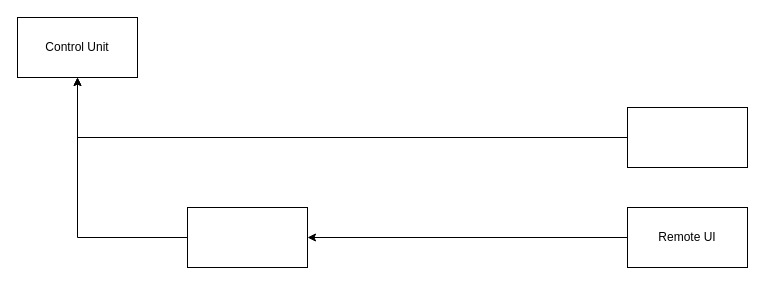
Some shapes in this 765 by 285 pixel diagram are drawn without their labels. The centre of each missing label's shape, as x and y in pixels:
Analog User Interface: [687,137]
CAN module: [247,237]
